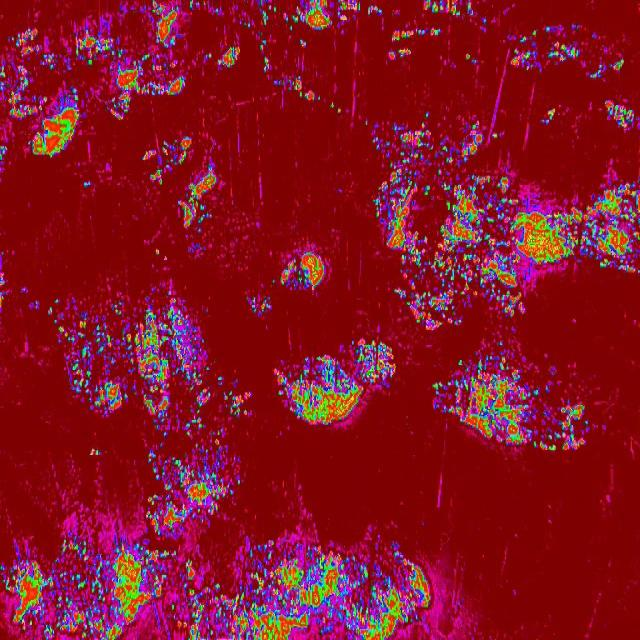fire: (0, 536, 433, 640), (368, 109, 528, 332), (47, 290, 222, 439), (431, 352, 590, 453), (529, 180, 640, 310), (272, 337, 400, 422), (0, 28, 81, 160), (144, 437, 248, 535), (81, 28, 190, 120), (142, 136, 220, 235), (509, 23, 584, 75), (285, 0, 361, 30), (279, 252, 325, 293), (274, 75, 318, 104), (418, 0, 476, 16), (391, 25, 442, 43), (224, 387, 253, 417), (602, 99, 634, 125), (150, 0, 180, 26), (253, 34, 271, 72), (216, 44, 242, 70), (246, 294, 272, 317), (256, 0, 280, 24), (0, 256, 8, 309), (383, 48, 412, 61), (542, 104, 556, 125), (590, 62, 606, 78), (365, 2, 381, 18), (464, 50, 478, 68), (612, 58, 627, 73), (240, 18, 256, 32), (328, 99, 344, 113), (88, 446, 101, 460), (297, 38, 310, 48), (82, 180, 92, 190), (31, 300, 40, 311), (154, 246, 162, 258), (188, 0, 196, 10), (214, 4, 220, 16), (482, 17, 488, 27), (269, 277, 277, 284), (206, 51, 212, 60)
